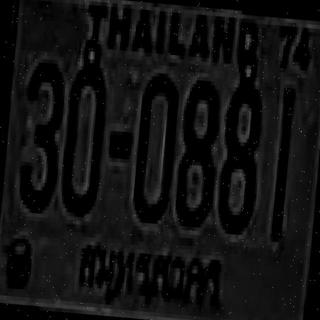N00: (117, 66, 187, 238), (56, 54, 113, 221)
N01: (263, 75, 302, 270)
N03: (8, 44, 72, 228)
N08: (168, 58, 228, 250), (211, 78, 270, 248)
P58: (66, 232, 230, 320)
